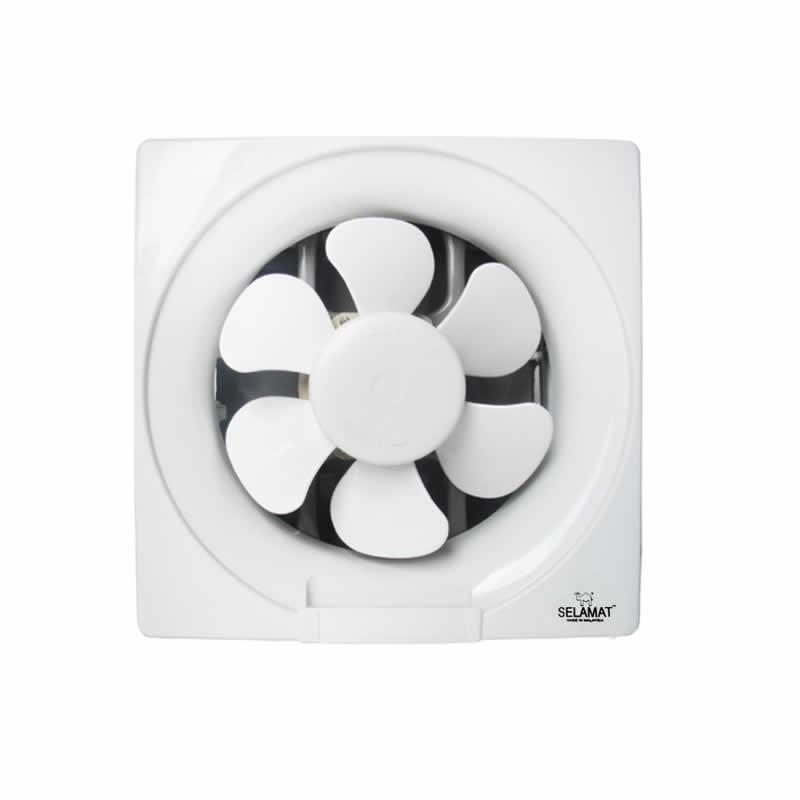fan: (71, 108, 687, 683)
